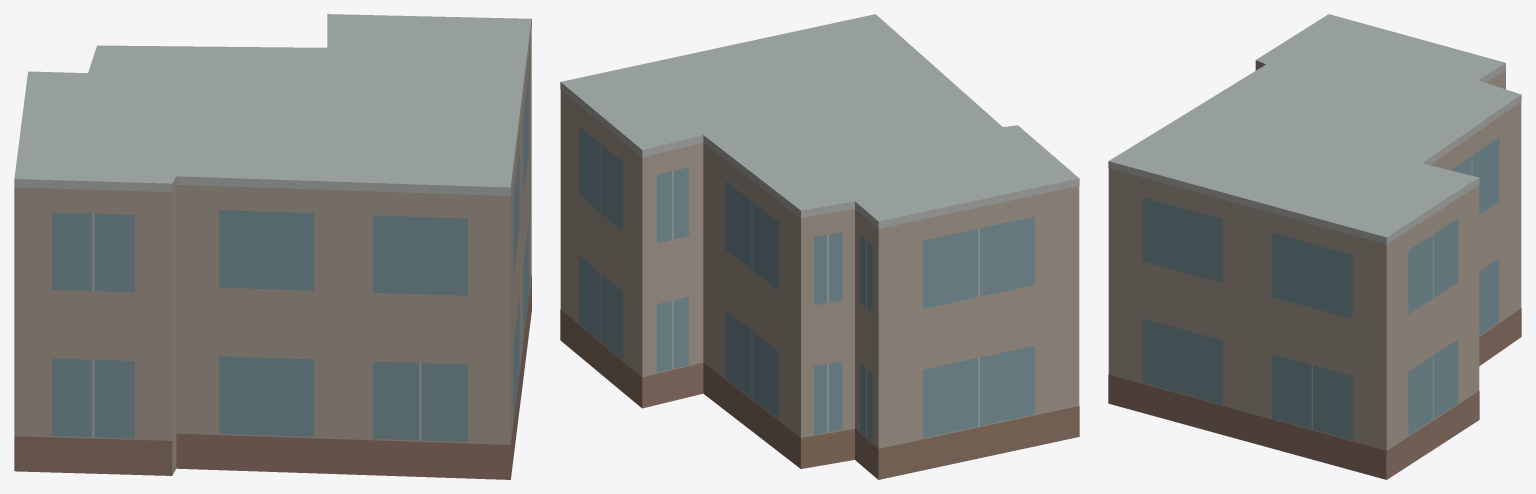
Rendered from survey-upis-32908891.glb.
3 views of the same model, side by side, from view 1: azimuth 30°, elevation 25°; view 2: azimuth 150°, elevation 25°; view 3: azimuth 270°, elevation 25° (orthographic). The views are drawn at different scales.
Visible parts, largest first — view 1: survey-upis-32908891.tmp; view 2: survey-upis-32908891.tmp; view 3: survey-upis-32908891.tmp.
Part boxes in pixels (box(x1,y1,x2,y2)): survey-upis-32908891.tmp: box(14, 14, 531, 479); survey-upis-32908891.tmp: box(560, 14, 1079, 479); survey-upis-32908891.tmp: box(1108, 14, 1521, 479).
Size of the model in its own units: 16.62 by 8.4 by 12.98.
